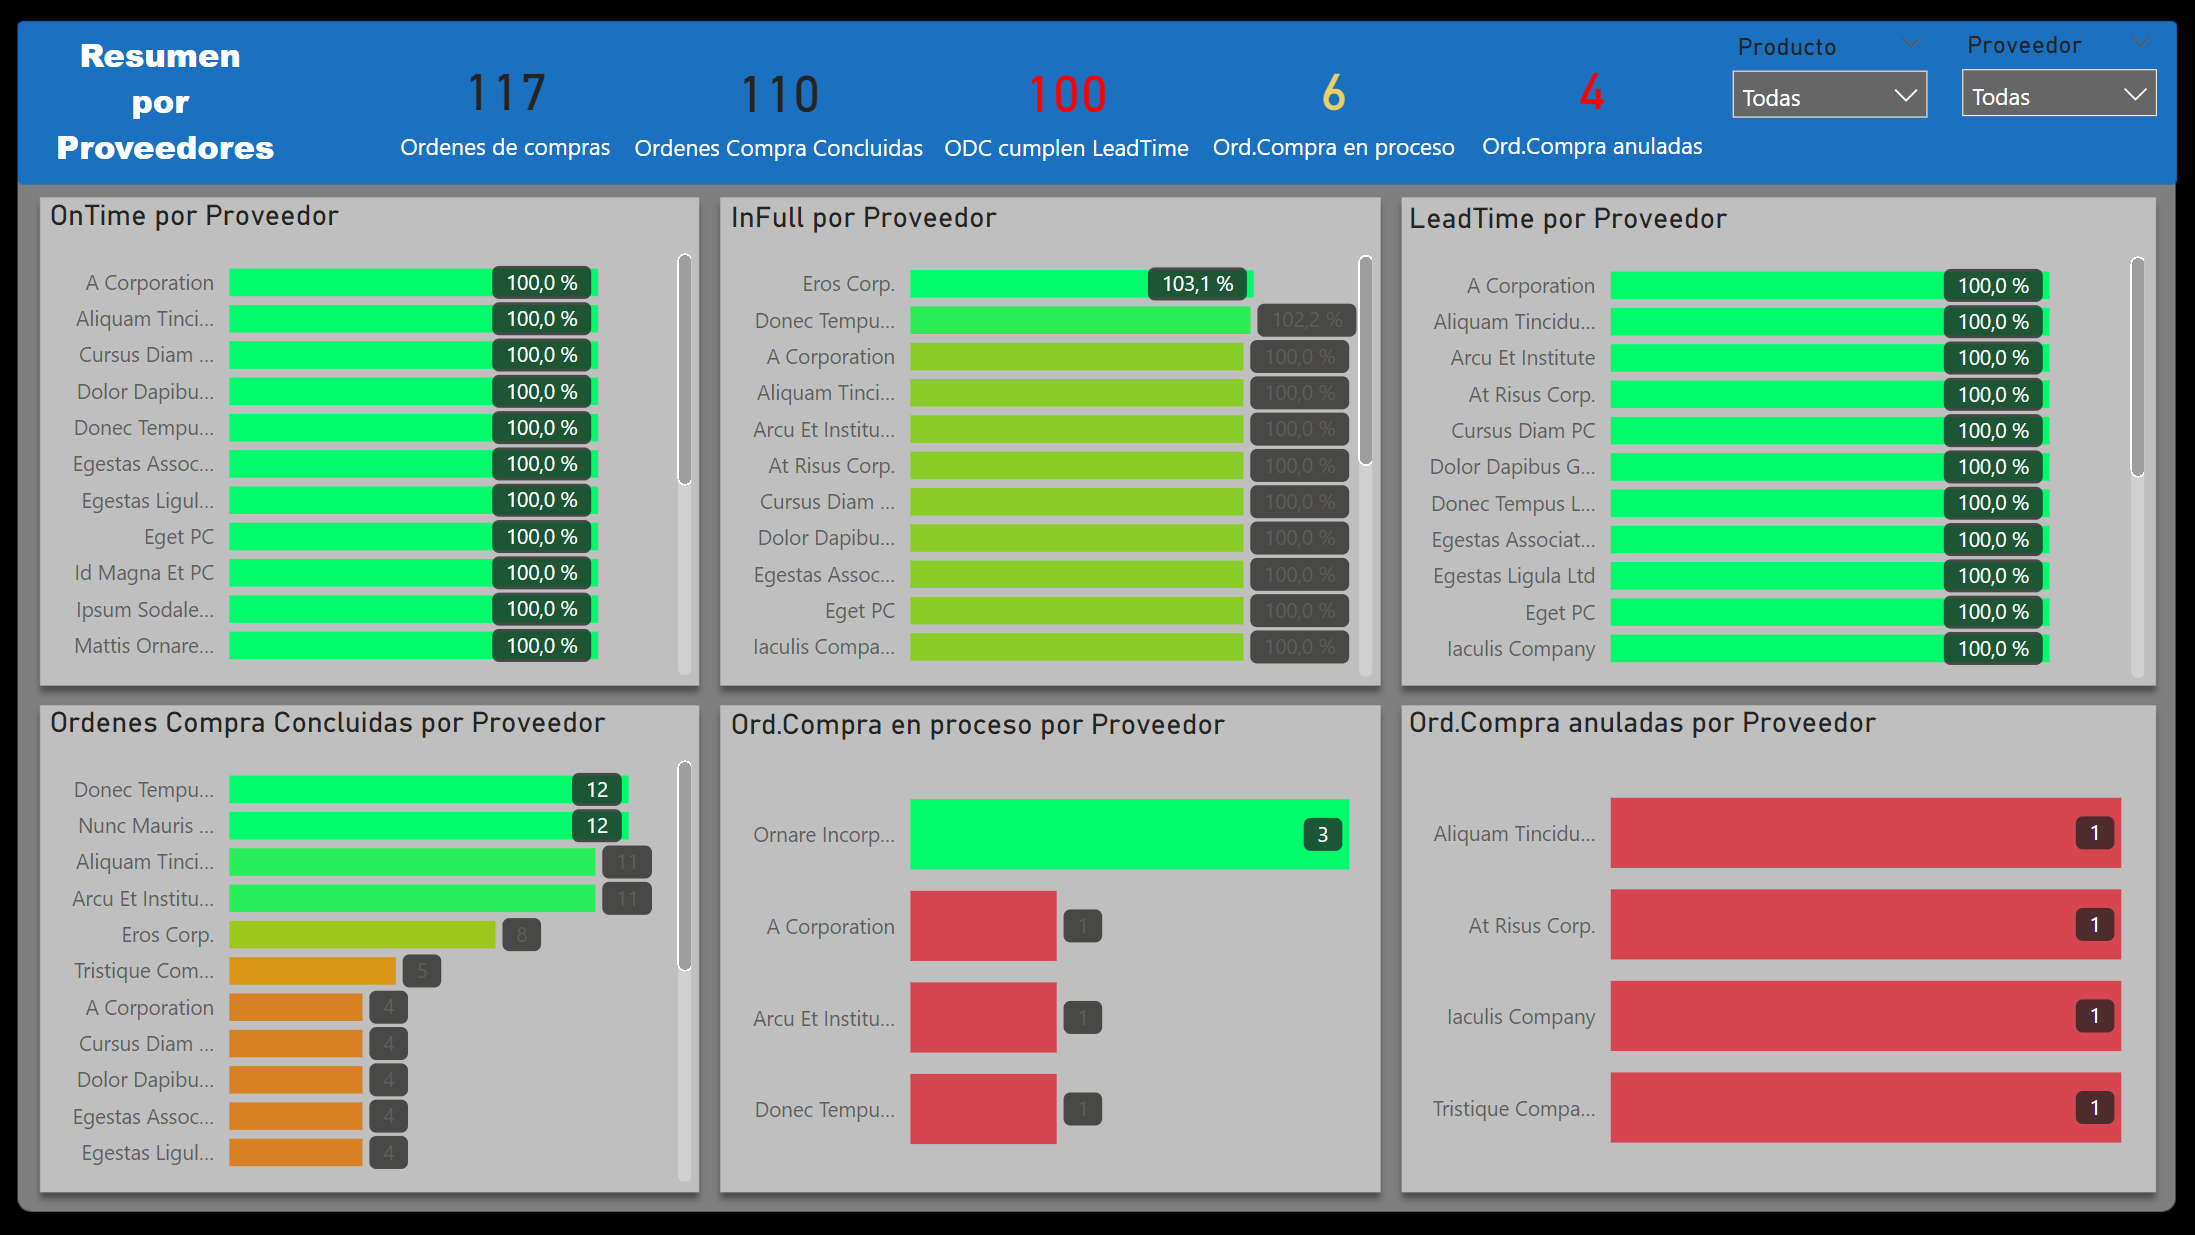

The dashboard page shown, as its layout file describes it:
{"tool":"powerbi","page":{"name":"Resumen Proveedores","canvas":[1280,720],"ordinal":1},"visuals":[{"type":"card","fields":{"Values":["ORDENES.Ordenes Compra Concluidas"]},"box":[362.6,12.7,181.6,95.6],"z":0},{"type":"card","fields":{"Values":["ORDENES.ODC cumplen LeadTime"]},"box":[544.3,12.7,153.6,95.6],"z":1000},{"type":"card","fields":{"Values":["ORDENES.Ord.Compra en proceso"]},"box":[697.9,12.7,157.4,94.3],"z":2000},{"type":"card","fields":{"Values":["ORDENES.Ord.Compra anuladas"]},"box":[855.3,12.1,144,95],"z":3000},{"type":"card","fields":{"Values":["ORDENES.Ordenes de compras"]},"box":[226.9,12.7,135.8,94.3],"z":4000},{"type":"slicer","fields":{"Values":["PROVEEDORES.Proveedor"]},"box":[1132.6,12.1,133.2,95.6],"z":5000},{"type":"slicer","fields":{"Values":["PRODUCTOS.Producto"]},"box":[999.4,12.7,133.2,95.6],"z":6000},{"type":"clusteredBarChart","fields":{"Category":["PROVEEDORES.Proveedor"],"Y":["ORDENES.OnTime"]},"box":[25.5,115.4,383,282.3],"z":7000},{"type":"clusteredBarChart","fields":{"Category":["PROVEEDORES.Proveedor"],"Y":["ORDENES.InFull"]},"box":[421.3,116,383,282.3],"z":8000},{"type":"clusteredBarChart","fields":{"Category":["PROVEEDORES.Proveedor"],"Y":["ORDENES.LeadTime"]},"box":[816.4,116.6,437.9,282.3],"z":9000},{"type":"clusteredBarChart","fields":{"Category":["PROVEEDORES.Proveedor"],"Y":["ORDENES.Ordenes Compra Concluidas"]},"box":[25.5,410.5,383,282.3],"z":10000},{"type":"clusteredBarChart","fields":{"Category":["PROVEEDORES.Proveedor"],"Y":["ORDENES.Ord.Compra en proceso"]},"box":[421.3,411.1,383,282.3],"z":11000},{"type":"clusteredBarChart","fields":{"Category":["PROVEEDORES.Proveedor"],"Y":["ORDENES.Ord.Compra anuladas"]},"box":[816.4,410.5,437.9,282.3],"z":12000},{"type":"textbox","box":[12.1,12.7,170.2,94.3],"z":13000}]}

Visuals, with their boxes in screenshot pixels (x1, y1, x2, y2), scaled from the page's 1280x720 canvas onto the 2195x1235 screenshot:
card - ORDENES.Ordenes Compra Concluidas: detection(622, 22, 933, 186)
card - ORDENES.ODC cumplen LeadTime: detection(933, 22, 1197, 186)
card - ORDENES.Ord.Compra en proceso: detection(1197, 22, 1467, 184)
card - ORDENES.Ord.Compra anuladas: detection(1467, 21, 1714, 184)
card - ORDENES.Ordenes de compras: detection(389, 22, 622, 184)
slicer - PROVEEDORES.Proveedor: detection(1942, 21, 2171, 185)
slicer - PRODUCTOS.Producto: detection(1714, 22, 1942, 186)
clusteredBarChart - PROVEEDORES.Proveedor x ORDENES.OnTime: detection(44, 198, 701, 682)
clusteredBarChart - PROVEEDORES.Proveedor x ORDENES.InFull: detection(722, 199, 1379, 683)
clusteredBarChart - PROVEEDORES.Proveedor x ORDENES.LeadTime: detection(1400, 200, 2151, 684)
clusteredBarChart - PROVEEDORES.Proveedor x ORDENES.Ordenes Compra Concluidas: detection(44, 704, 701, 1188)
clusteredBarChart - PROVEEDORES.Proveedor x ORDENES.Ord.Compra en proceso: detection(722, 705, 1379, 1189)
clusteredBarChart - PROVEEDORES.Proveedor x ORDENES.Ord.Compra anuladas: detection(1400, 704, 2151, 1188)
textbox: detection(21, 22, 313, 184)
